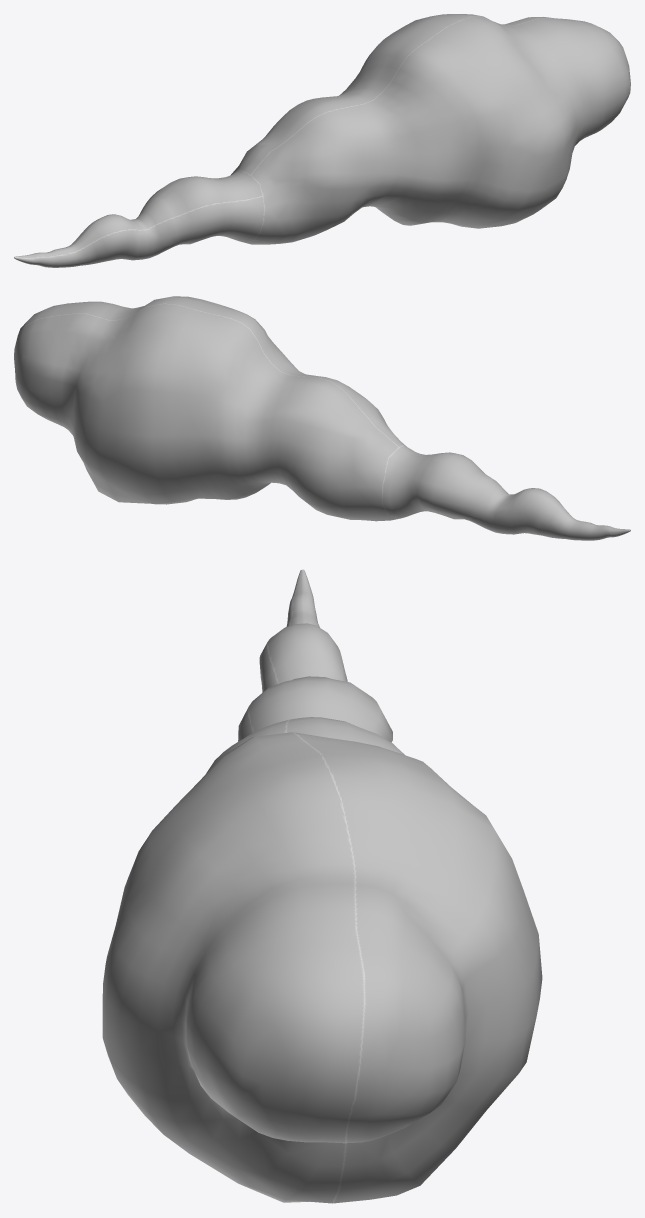
File: cloud3.fbx
3 renders of one model, top to bottom at view 1: azimuth 30°, elevation 25°; view 2: azimuth 150°, elevation 25°; view 3: azimuth 270°, elevation 25°, orthographic. The views are drawn at different scales.
Visible parts, largest first — view 1: node_id26; view 2: node_id26; view 3: node_id26.
Boxes of the visible parts, x1,y1,x2,y2 form: node_id26: (14, 14, 630, 267); node_id26: (14, 296, 630, 540); node_id26: (102, 569, 542, 1203).
Size of the model in its own units: 0.1756 by 0.055 by 0.0553.
1 material, 1 textured.
